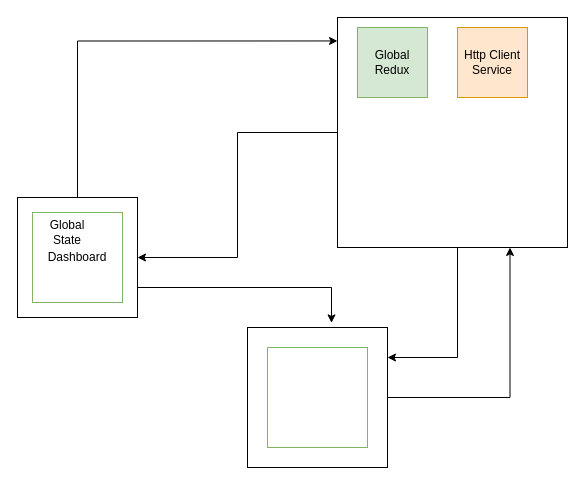
This 585x485 diagram has some shape labels left out. Here are the shapes that lost their labels. From the top down, the box of each, then its label:
(336, 16, 568, 248): Shared
(266, 346, 368, 448): Shell
